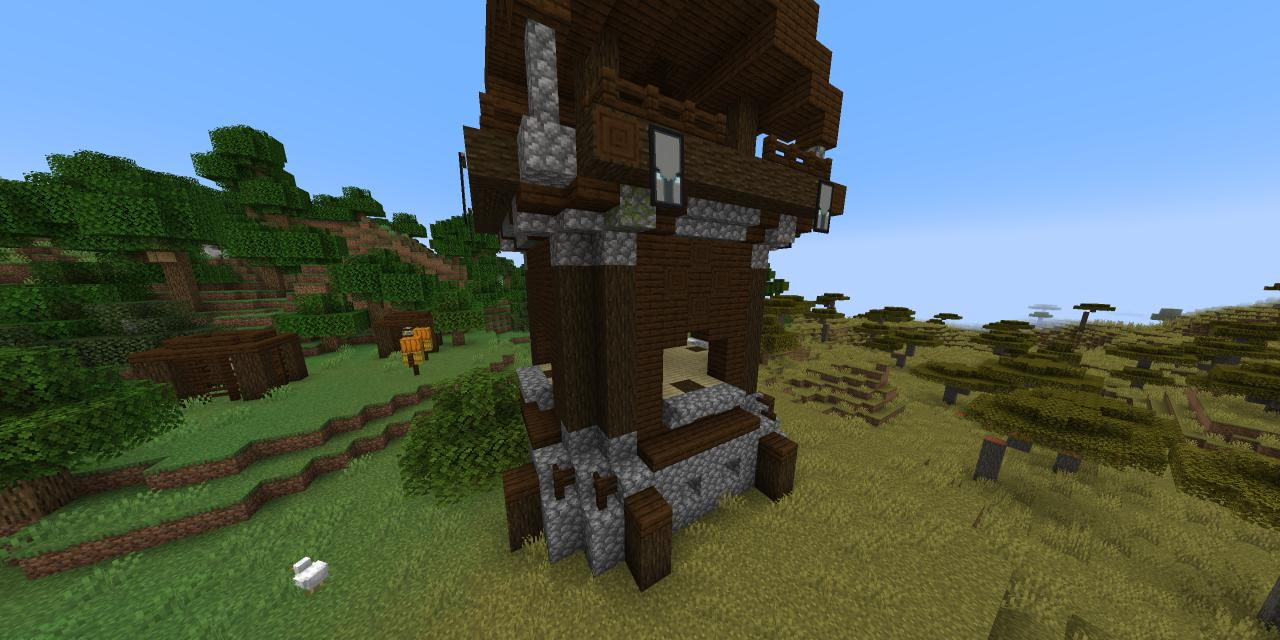pillager outpost: (444, 0, 862, 590)
